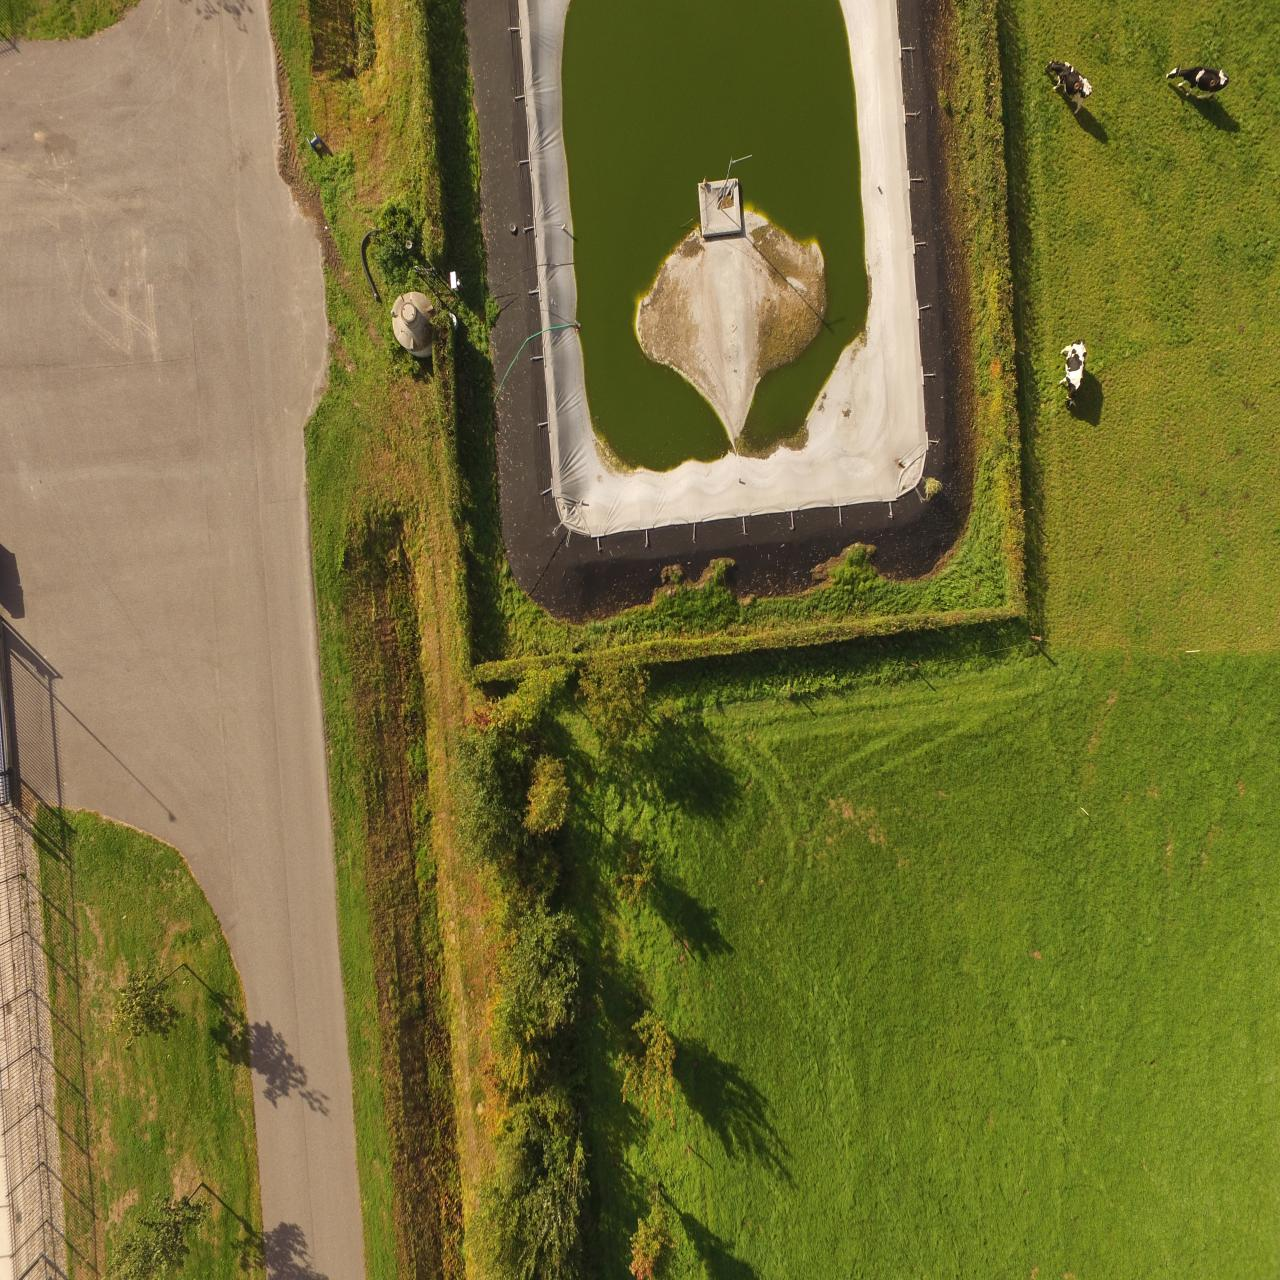cow: (1043, 57, 1095, 115), (1056, 333, 1091, 415), (1164, 63, 1231, 101)
